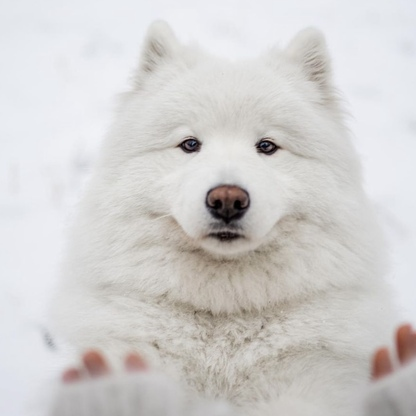samoyed: (46, 12, 387, 391)
